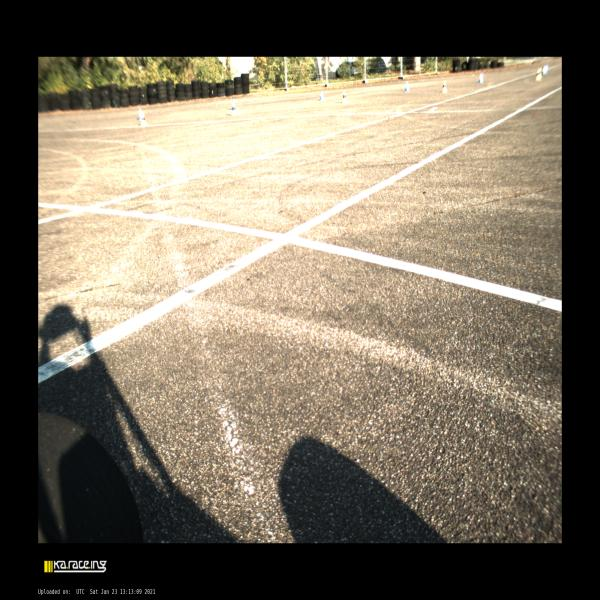blue_cone: (318, 89, 325, 101), (477, 72, 484, 84), (138, 108, 143, 120), (542, 64, 548, 74), (405, 81, 410, 92), (231, 99, 236, 109)
yellow_cone: (140, 113, 148, 127), (341, 90, 348, 104), (441, 80, 448, 94), (535, 67, 541, 81), (231, 103, 237, 116)
